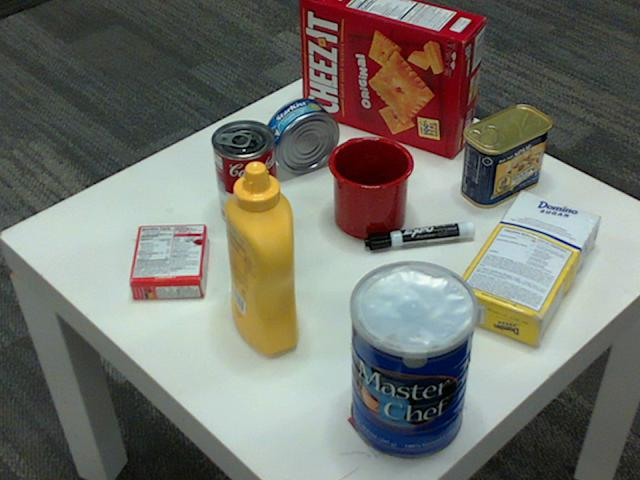cracker_box: (301, 0, 485, 157)
gelatin_box: (126, 222, 205, 298)
large_marker: (365, 225, 476, 250)
master_chef_can: (351, 263, 479, 461)
mug: (326, 135, 412, 238)
mustard_bottle: (223, 162, 297, 355)
potted_meat_can: (461, 106, 550, 208)
sugar_box: (449, 190, 599, 348)
tomato_soup_can: (211, 120, 277, 230)
tuna_fish_can: (263, 97, 338, 173)
